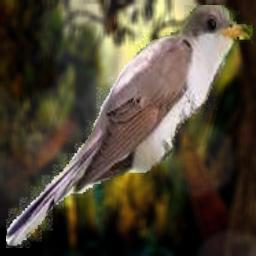Cuckoo: (6, 5, 253, 248)
